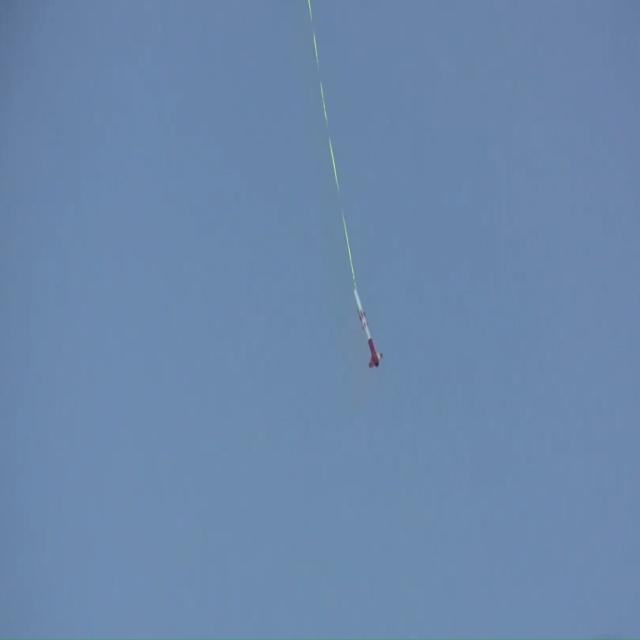Rocket: (351, 284, 387, 370)
